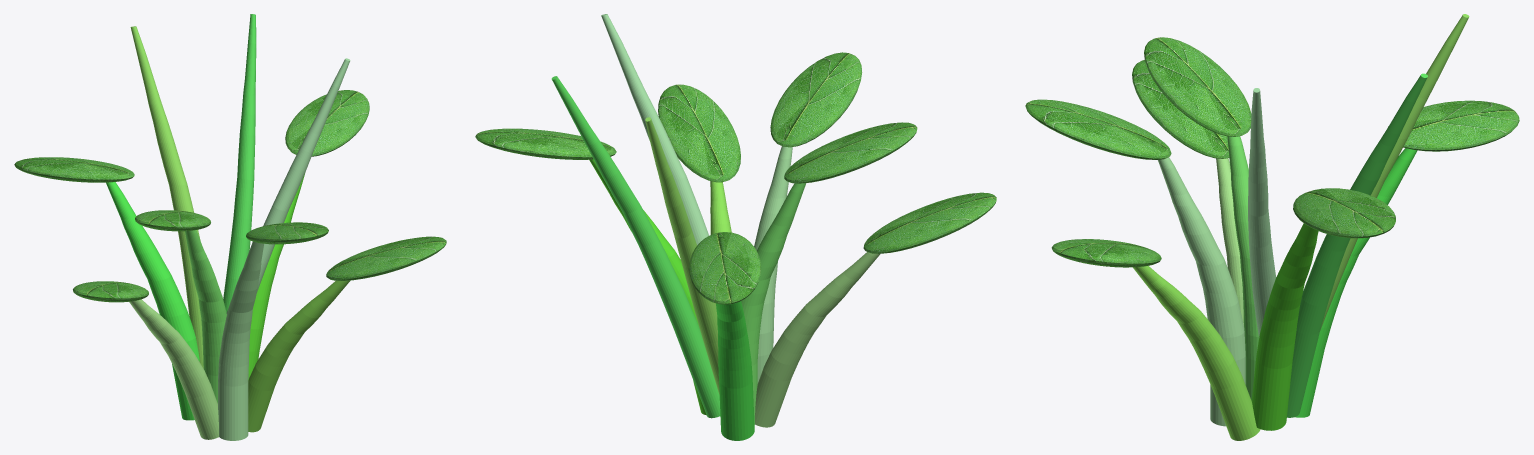
Rendered from leaf3.glb.
The picture shows the model from 3 angles, left to right: view 1: azimuth 30°, elevation 25°; view 2: azimuth 150°, elevation 25°; view 3: azimuth 270°, elevation 25°; orthographic projection. The views are drawn at different scales.
Visible parts, largest first — view 1: Cylinder, Cylinder.004, Cylinder.006, Cylinder.003, Cylinder.008, Cylinder.002, Sphere.003, Cylinder.001, Sphere.001, Cylinder.005, Sphere.005, Cylinder.007 (+3 smaller); view 2: Cylinder.004, Sphere.001, Sphere, Cylinder.002, Cylinder.006, Sphere.005, Sphere.006, Sphere.002, Cylinder.003, Cylinder.001, Cylinder.005, Sphere.003 (+3 smaller); view 3: Cylinder.007, Sphere.006, Cylinder.004, Cylinder, Cylinder.008, Sphere.005, Sphere, Cylinder.005, Sphere.003, Cylinder.001, Sphere.002, Cylinder.006 (+3 smaller).
Part boxes in pixels (bbox=[...]): Cylinder: bbox=[218, 241, 263, 440]; Cylinder.004: bbox=[223, 14, 256, 312]; Cylinder.006: bbox=[106, 182, 199, 420]; Cylinder.003: bbox=[130, 26, 203, 368]; Cylinder.008: bbox=[248, 280, 349, 432]; Cylinder.002: bbox=[129, 299, 218, 439]; Sphere.003: bbox=[285, 90, 369, 156]; Cylinder.001: bbox=[185, 230, 226, 403]; Sphere.001: bbox=[326, 236, 446, 280]; Cylinder.005: bbox=[226, 58, 350, 313]; Sphere.005: bbox=[14, 157, 134, 182]; Cylinder.007: bbox=[248, 172, 305, 379]; Cylinder.004: bbox=[551, 76, 720, 418]; Sphere.001: bbox=[658, 84, 740, 182]; Sphere: bbox=[770, 52, 862, 147]; Cylinder.002: bbox=[755, 252, 880, 427]; Cylinder.006: bbox=[716, 301, 754, 440]; Sphere.005: bbox=[689, 232, 761, 304]; Sphere.006: bbox=[784, 122, 917, 183]; Sphere.002: bbox=[863, 192, 996, 253]; Cylinder.003: bbox=[645, 117, 719, 394]; Cylinder.001: bbox=[741, 183, 806, 424]; Cylinder.005: bbox=[601, 14, 709, 245]; Sphere.003: bbox=[475, 128, 616, 159]; Cylinder.007: bbox=[1251, 223, 1318, 430]; Sphere.006: bbox=[1144, 37, 1251, 136]; Cylinder.004: bbox=[1287, 73, 1427, 417]; Cylinder: bbox=[1158, 157, 1245, 426]; Cylinder.008: bbox=[1133, 266, 1260, 440]; Sphere.005: bbox=[1388, 100, 1519, 151]; Sphere: bbox=[1025, 99, 1171, 159]; Cylinder.005: bbox=[1248, 88, 1276, 337]; Sphere.003: bbox=[1293, 188, 1395, 238]; Cylinder.001: bbox=[1227, 136, 1258, 400]; Sphere.002: bbox=[1132, 60, 1229, 158]; Cylinder.006: bbox=[1295, 148, 1417, 417].
Size of the model in its own units: 0.5698 by 0.4902 by 0.5382.
10 materials, 1 textured.
